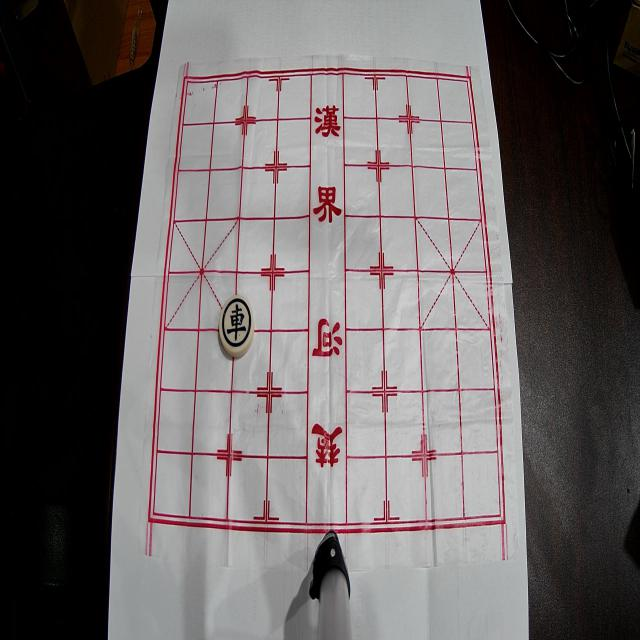black-chariot: (219, 295, 255, 357)
